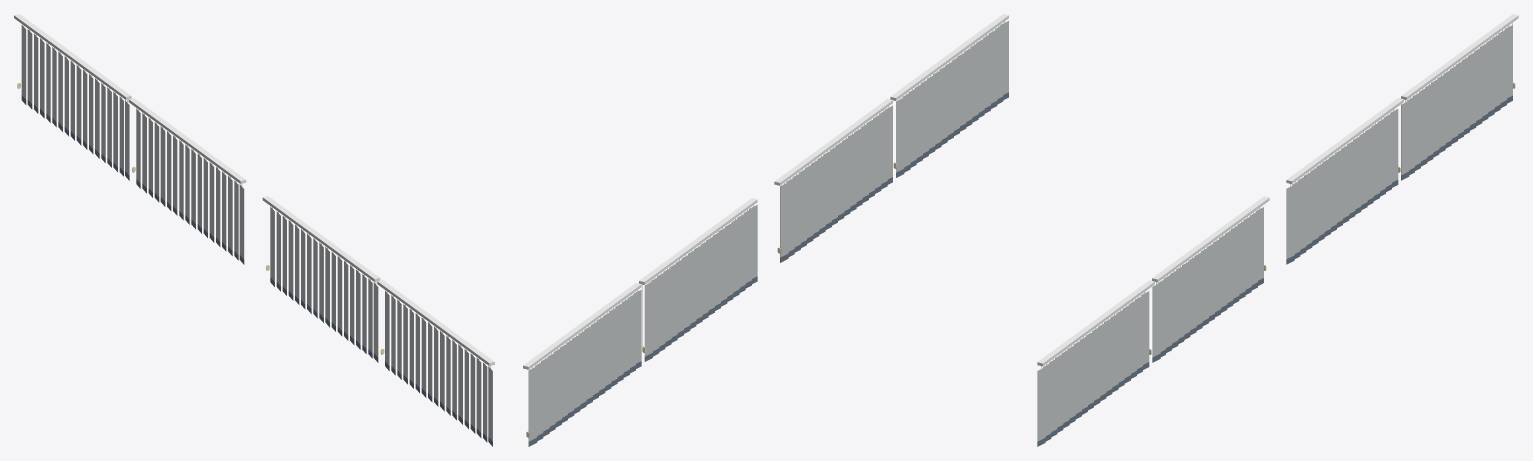
Rendered from Jalousien_fixed.obj.
3 views of the same model, side by side, from view 1: azimuth 30°, elevation 25°; view 2: azimuth 150°, elevation 25°; view 3: azimuth 330°, elevation 25° (orthographic).
Parts seen in each view (by area): view 1: Mesh22 Model, Mesh20 Model, Mesh21 Model, Mesh1 Model; view 2: Mesh22 Model, Mesh21 Model, Mesh20 Model, Mesh1 Model, Mesh2 Model, Mesh11 Model, Mesh6 Model, Mesh8 Model, Mesh13 Model, Mesh17 Model, Mesh18 Model, Mesh3 Model (+6 smaller); view 3: Mesh22 Model, Mesh20 Model, Mesh21 Model, Mesh1 Model, Mesh19 Model, Mesh4 Model, Mesh8 Model, Mesh14 Model, Mesh16 Model, Mesh3 Model, Mesh15 Model, Mesh5 Model (+5 smaller).
Part boxes in pixels (x1,y1,x2,y2): Mesh22 Model: [128, 98, 246, 264]; Mesh20 Model: [377, 280, 494, 446]; Mesh21 Model: [14, 14, 131, 180]; Mesh1 Model: [262, 196, 380, 281]; Mesh22 Model: [639, 198, 757, 361]; Mesh21 Model: [523, 283, 641, 446]; Mesh20 Model: [890, 14, 1008, 177]; Mesh1 Model: [774, 99, 892, 253]; Mesh2 Model: [780, 182, 788, 262]; Mesh11 Model: [835, 141, 844, 220]; Mesh6 Model: [805, 164, 813, 243]; Mesh8 Model: [817, 155, 825, 234]; Mesh13 Model: [848, 132, 856, 211]; Mesh17 Model: [873, 114, 881, 193]; Mesh18 Model: [879, 109, 887, 189]; Mesh3 Model: [786, 177, 794, 256]; Mesh22 Model: [1286, 98, 1403, 264]; Mesh20 Model: [1037, 280, 1154, 446]; Mesh21 Model: [1401, 14, 1518, 180]; Mesh1 Model: [1152, 196, 1269, 282]; Mesh19 Model: [1152, 282, 1160, 362]; Mesh4 Model: [1243, 216, 1251, 294]; Mesh8 Model: [1219, 234, 1227, 312]; Mesh14 Model: [1182, 261, 1190, 339]; Mesh16 Model: [1170, 270, 1178, 348]; Mesh3 Model: [1249, 211, 1257, 290]; Mesh15 Model: [1176, 265, 1184, 343]; Mesh5 Model: [1237, 220, 1245, 299].
Bounding box in the file's own units: 0.1 × 1.42 × 14.81.
